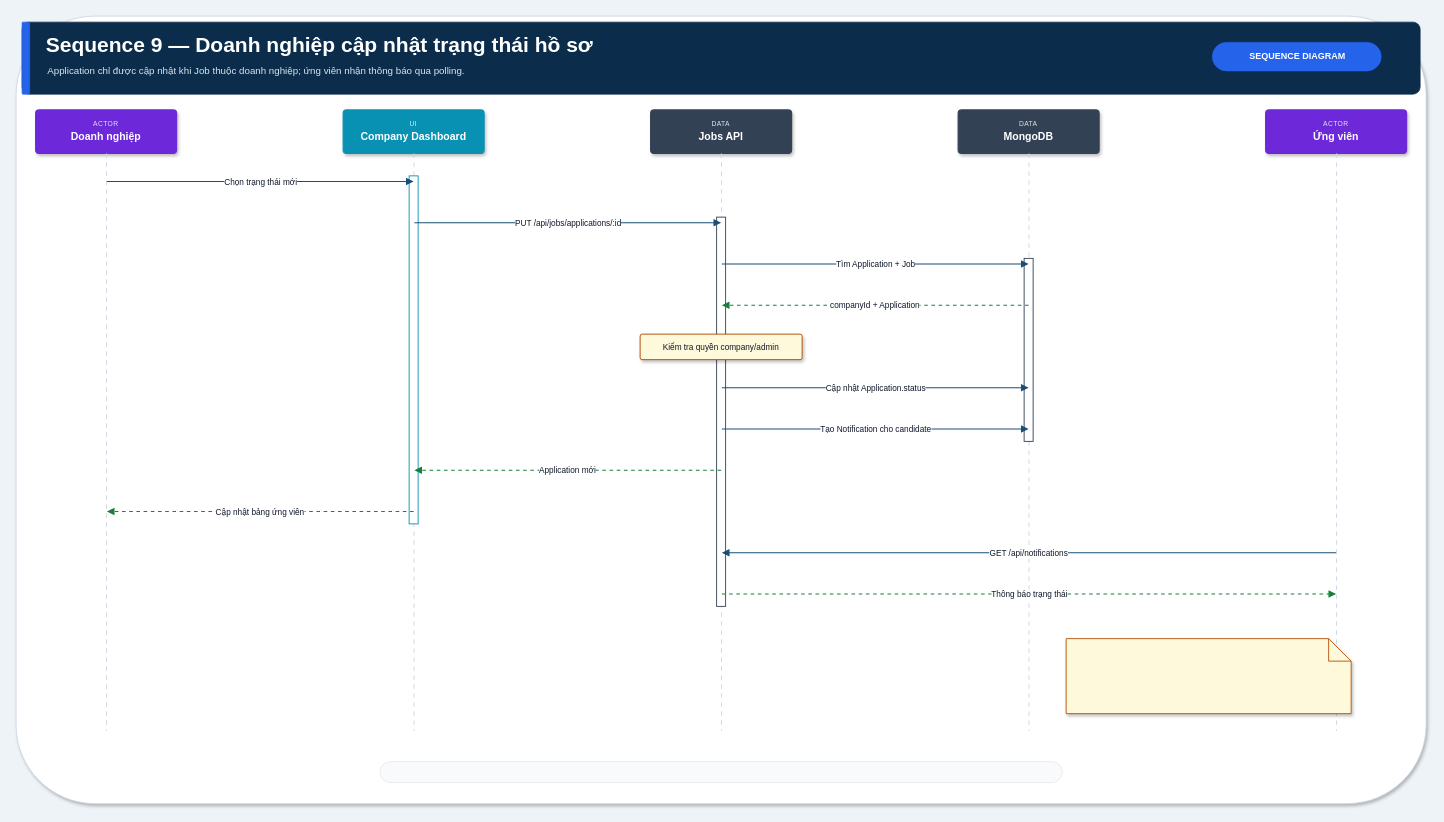
Image size: 1444x822. Some labels were removed from this diagram. Each missing label, with the centre of its shape:
Backend hiện chưa ép buộc thứ tự chuyển trạng thái bằng state machine.: point 1209,677
Yêu cầu/lệnh: nét liền navy • Phản hồi: nét đứt xanh lá • Xử lý nội bộ: thẻ vàng: point 720,772
